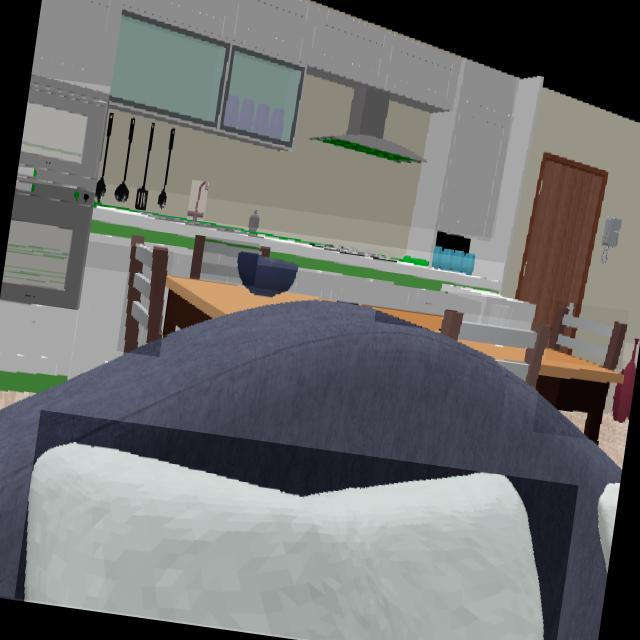cabinet: (32, 0, 517, 238)
chair: (441, 312, 549, 387), (124, 237, 169, 352), (549, 304, 626, 369), (190, 237, 258, 279), (259, 248, 269, 257)
countertop: (90, 206, 502, 296)
microwave: (17, 76, 108, 190)
oven: (0, 181, 94, 309)
pillow: (26, 445, 543, 640)
sink: (187, 182, 208, 222)
sofa: (0, 302, 622, 640)
stove: (310, 244, 394, 261)
table: (166, 277, 318, 336), (539, 352, 622, 441), (460, 341, 526, 363), (377, 309, 442, 331)
